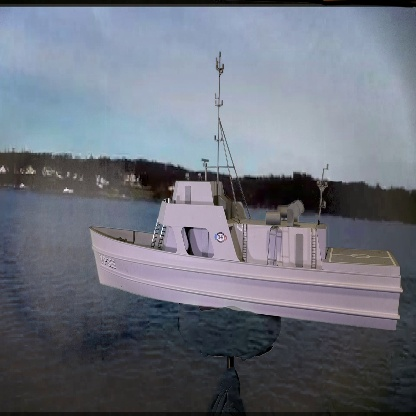YP689: (90, 50, 403, 333)
